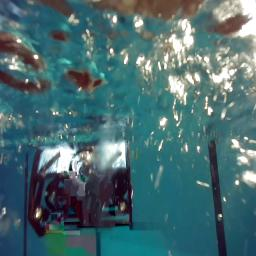front: (28, 140, 132, 238)
